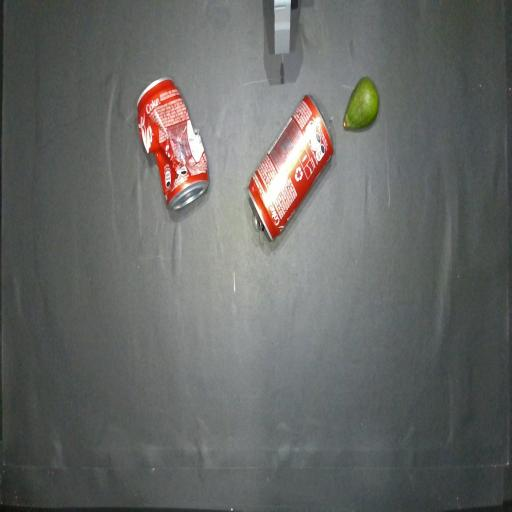higo: (343, 77, 379, 130)
lata: (249, 95, 333, 239)
lata_defectuoso: (138, 77, 209, 210)
